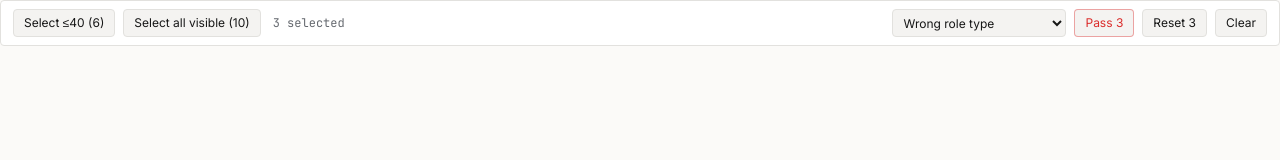
Test: BulkActionBar › Cancel backs out of the confirm without passing
Click the button "Pass 3".
click(1104, 23)  # box 1074,9 -> 1134,37
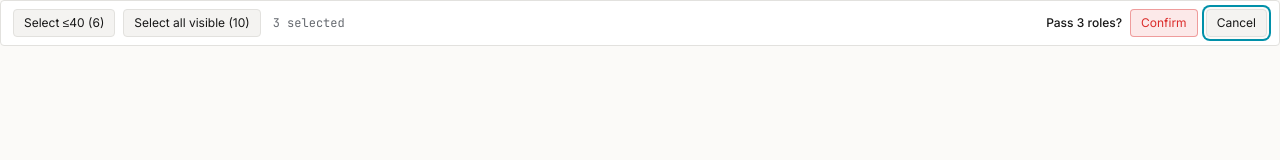
Click the button "Cancel".
click(1236, 23)  # box 1206,9 -> 1267,37
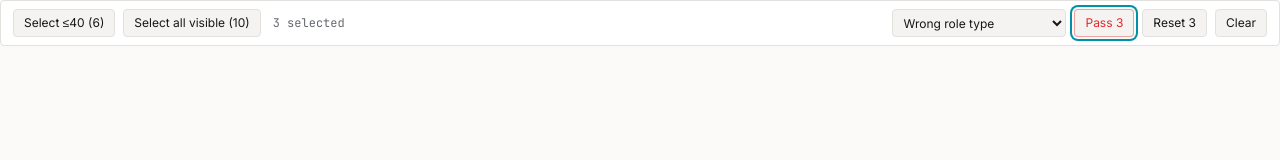
Expected: the button "Pass 3" is shown, 1074,9 -> 1134,37
